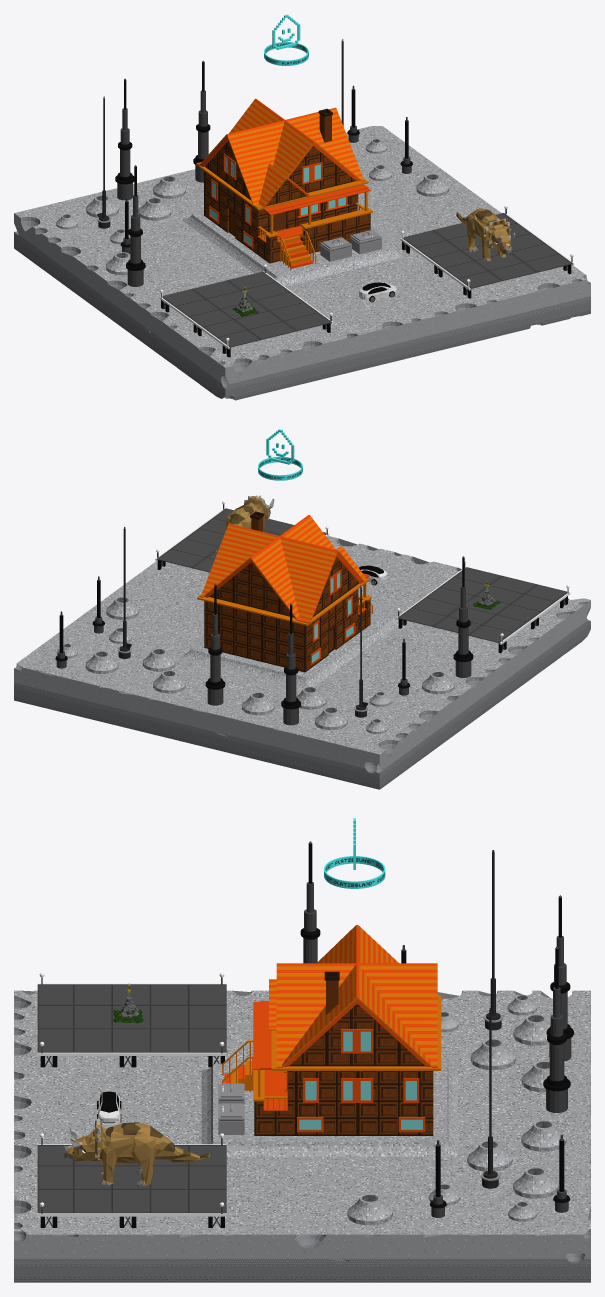
3 views of the same model, one above another, from view 1: azimuth 30°, elevation 25°; view 2: azimuth 150°, elevation 25°; view 3: azimuth 270°, elevation 25° (orthographic). The views are drawn at different scales.
Parts seen in each view (by area): view 1: Cube.027, Cube, Cube.025, Cube.026, Cube.028, ANIMAL_Triceratops, Cylinder.021, Cylinder.020, Cylinder.017, TYPE_PREMIUM, Cube.029, Cube.030 (+4 smaller); view 2: Cube.027, Cube, Cube.025, Cube.028, Cube.026, Cylinder.017, Cylinder.021, Cylinder.020, TYPE_PREMIUM, ANIMAL_Triceratops, Cylinder.030, Cylinder.029 (+7 smaller); view 3: Cube.027, Cube, Cube.025, Cube.026, Cube.028, ANIMAL_Triceratops, Cylinder.017, Cylinder.020, Cylinder.021, TYPE_PREMIUM, Cylinder.033, Cylinder.031 (+11 smaller).
Part boxes in pixels (bbox=[...]): Cube.027: bbox=[14, 126, 590, 400]; Cube: bbox=[196, 98, 372, 269]; Cube.025: bbox=[159, 264, 333, 357]; Cube.026: bbox=[400, 205, 574, 298]; Cube.028: bbox=[182, 211, 403, 286]; ANIMAL_Triceratops: bbox=[456, 208, 515, 261]; Cylinder.021: bbox=[126, 165, 145, 286]; Cylinder.020: bbox=[115, 78, 134, 200]; Cylinder.017: bbox=[193, 60, 210, 182]; TYPE_PREMIUM: bbox=[264, 14, 308, 65]; Cube.029: bbox=[320, 237, 351, 261]; Cube.030: bbox=[350, 230, 381, 254]; Cube.027: bbox=[14, 536, 590, 789]; Cube: bbox=[197, 511, 372, 672]; Cube.025: bbox=[396, 560, 570, 653]; Cube.028: bbox=[181, 610, 398, 688]; Cube.026: bbox=[155, 501, 329, 572]; Cylinder.017: bbox=[205, 583, 225, 705]; Cylinder.021: bbox=[453, 556, 473, 677]; Cylinder.020: bbox=[281, 603, 300, 725]; TYPE_PREMIUM: bbox=[258, 429, 302, 480]; ANIMAL_Triceratops: bbox=[215, 495, 274, 552]; Cylinder.030: bbox=[142, 648, 175, 671]; Cylinder.029: bbox=[153, 670, 185, 693]; Cube.027: bbox=[14, 990, 590, 1282]; Cube: bbox=[222, 925, 441, 1135]; Cube.025: bbox=[37, 973, 226, 1067]; Cube.026: bbox=[37, 1133, 226, 1227]; Cube.028: bbox=[201, 1063, 457, 1156]; ANIMAL_Triceratops: bbox=[63, 1118, 209, 1186]; Cylinder.017: bbox=[543, 946, 570, 1112]; Cylinder.020: bbox=[546, 895, 573, 1061]; Cylinder.021: bbox=[300, 841, 320, 963]; TYPE_PREMIUM: bbox=[324, 818, 385, 888]; Cylinder.033: bbox=[347, 1194, 392, 1225]; Cylinder.031: bbox=[513, 1167, 558, 1198].
Size of the model in its own units: 4000 by 2703 by 4000.
Materials: 44 (6 with a texture image).
